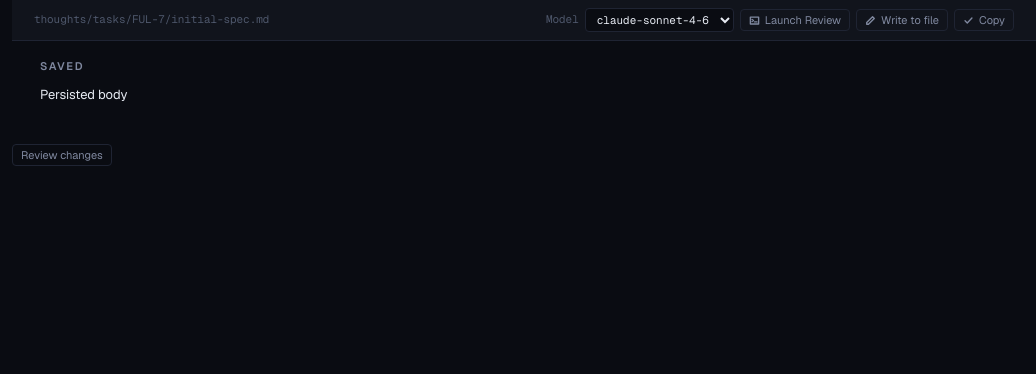
Scenario: SpecTab › renders review summary fields when expanded
What coordinates should you click on to do the following:
click the button "Review changes"
I would click on:
 (62, 155)
Its box is 12,144 -> 112,166.
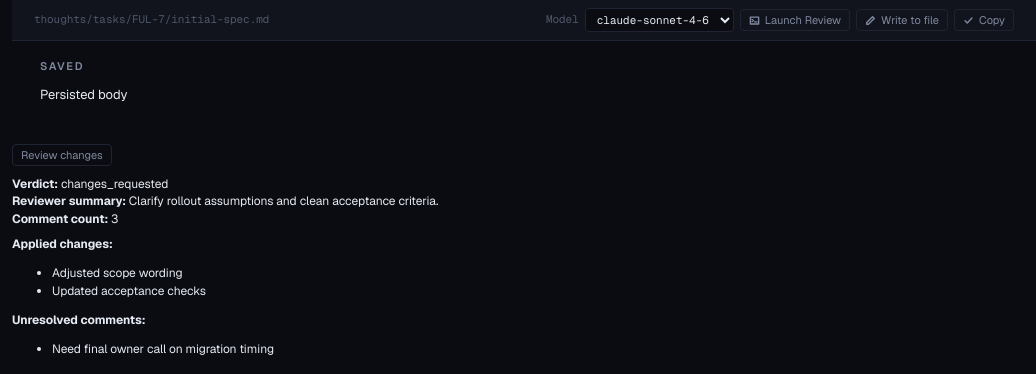
Result: the text "changes_requested" is shown at 61,176 -> 168,192
Result: the text "Clarify rollout assumptions and clean acceptance criteria." is shown at 129,193 -> 438,209
Result: the text "3" is shown at 111,210 -> 118,226
